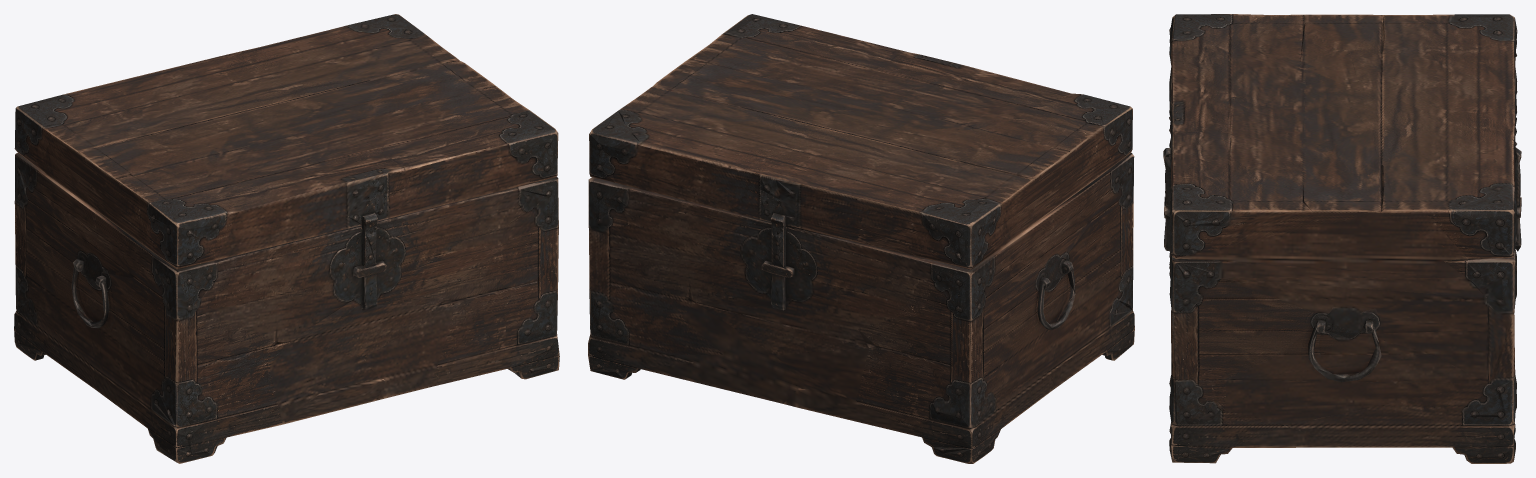
Rendered from loot_chest.glb.
The picture shows the model from 3 angles, left to right: view 1: azimuth 30°, elevation 25°; view 2: azimuth 150°, elevation 25°; view 3: azimuth 270°, elevation 25°; orthographic projection. The views are drawn at different scales.
Size of the model in its own units: 1.9 by 1.1 by 1.4.
Materials: 1 (1 with a texture image).
